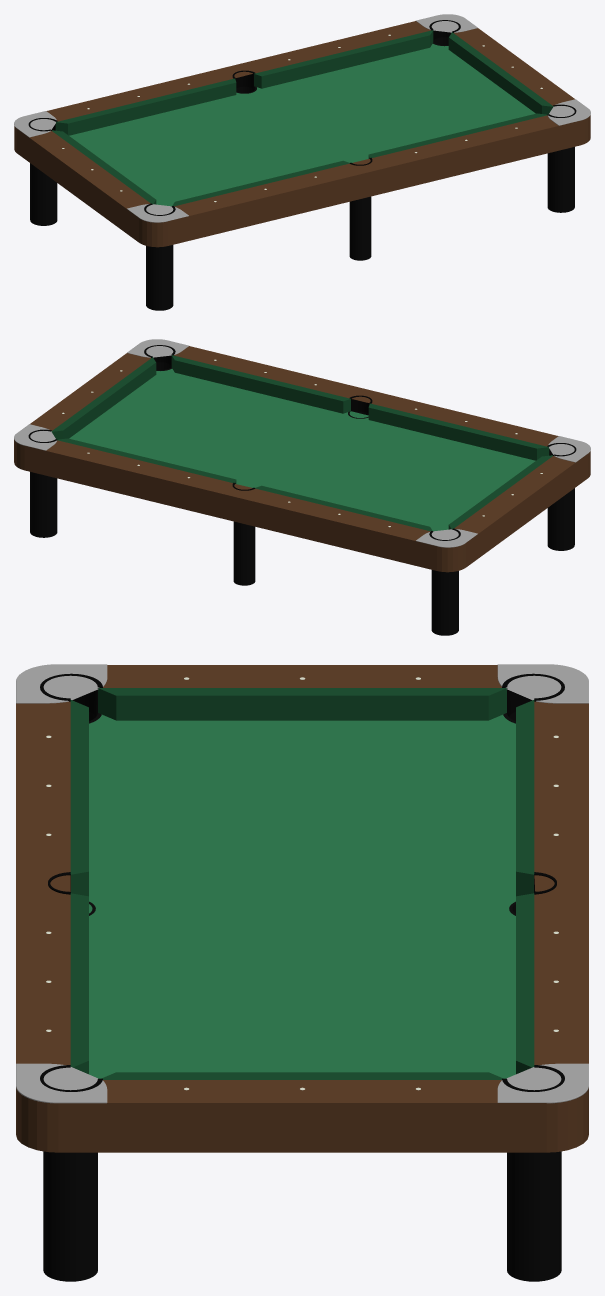
Rendered from ElitePoolTable.fbx.
3 views of the same model, one above another, from view 1: azimuth 30°, elevation 25°; view 2: azimuth 150°, elevation 25°; view 3: azimuth 270°, elevation 25° (orthographic). The views are drawn at different scales.
Visible parts, largest first — view 1: Surface, WoodenFrame, Cushions, Pockets, CornerPlates, PocketLiners; view 2: Surface, WoodenFrame, Cushions, Pockets, CornerPlates, PocketLiners; view 3: Surface, WoodenFrame, Cushions, Pockets, CornerPlates, PocketLiners.
Part boxes in pixels (<box>): Surface: <box>69,44,535,206</box>; WoodenFrame: <box>14,21,590,247</box>; Cushions: <box>52,30,553,206</box>; Pockets: <box>30,37,574,310</box>; CornerPlates: <box>14,14,590,222</box>; PocketLiners: <box>28,20,576,215</box>; Surface: <box>69,369,535,531</box>; WoodenFrame: <box>14,346,590,572</box>; Cushions: <box>51,355,552,531</box>; Pockets: <box>30,362,574,635</box>; CornerPlates: <box>14,339,590,547</box>; PocketLiners: <box>28,345,576,540</box>; Surface: <box>89,714,515,1078</box>; WoodenFrame: <box>16,665,588,1152</box>; Cushions: <box>70,688,534,1079</box>; Pockets: <box>43,711,561,1281</box>; CornerPlates: <box>16,664,588,1103</box>; PocketLiners: <box>40,673,564,1091</box>.
Size of the model in its own units: 2.84 by 0.579 by 1.57.
